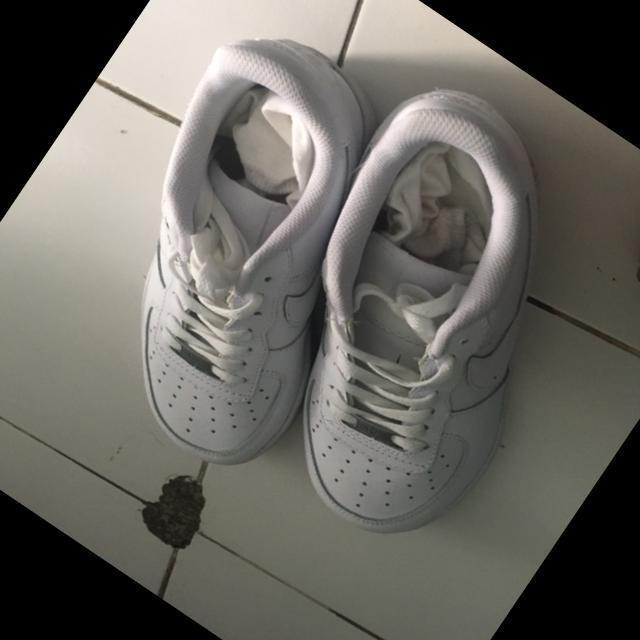nike fake air force: (180, 57, 640, 581), (19, 2, 482, 499)
